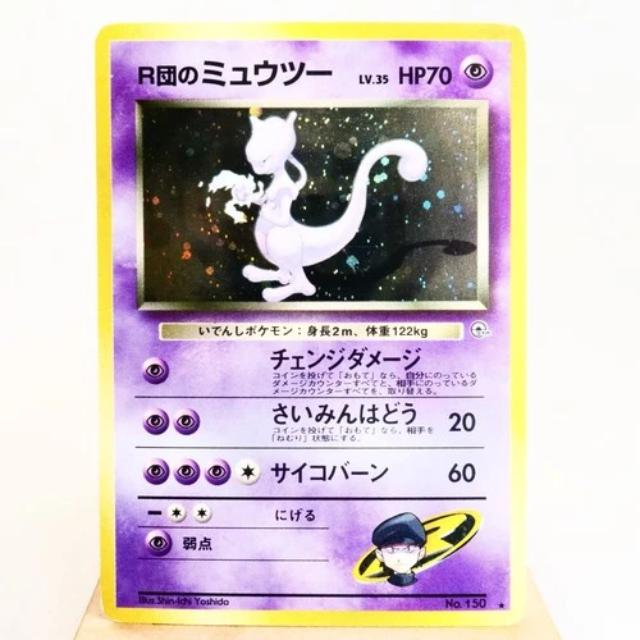Card: (86, 19, 535, 632)
Name: (130, 49, 340, 94)
